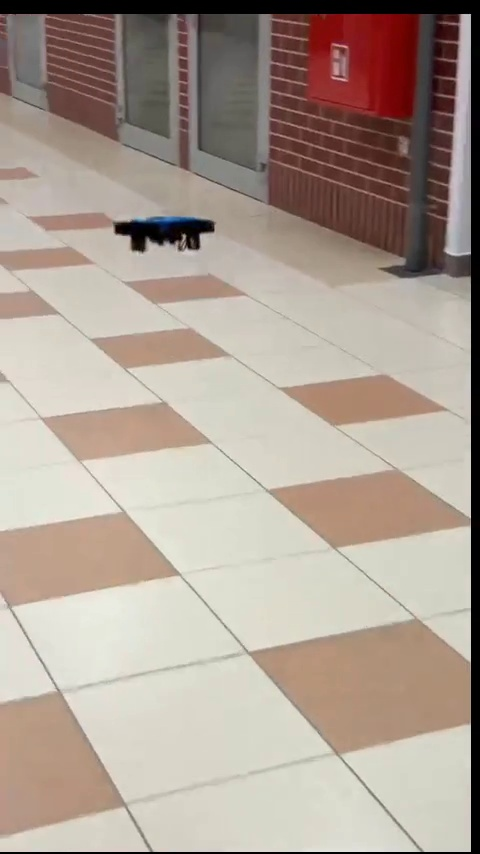drone: (113, 207, 213, 250)
